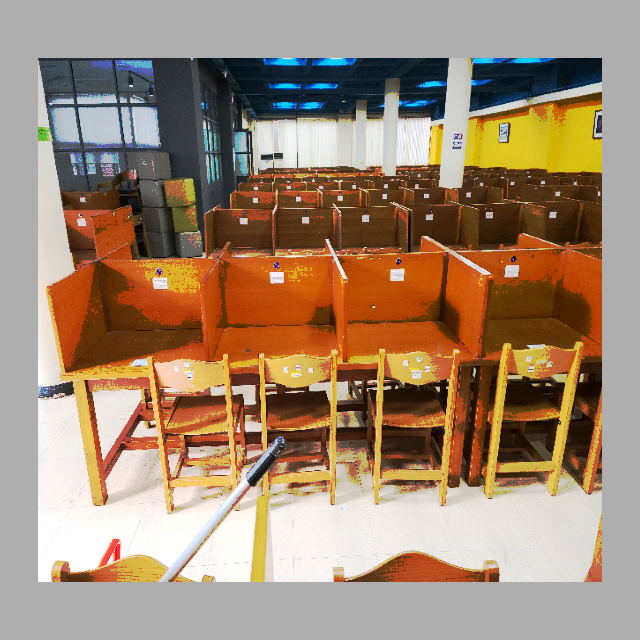empty: (51, 248, 206, 427), (210, 250, 347, 435), (350, 248, 482, 439)
